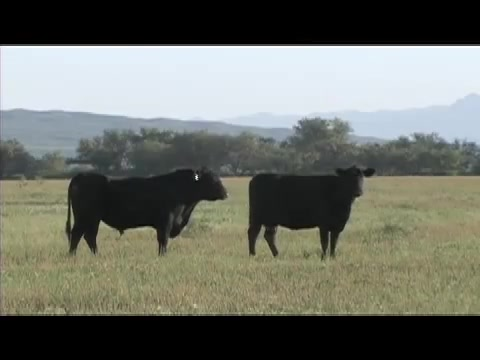cow: (66, 167, 230, 257), (248, 167, 379, 261)
